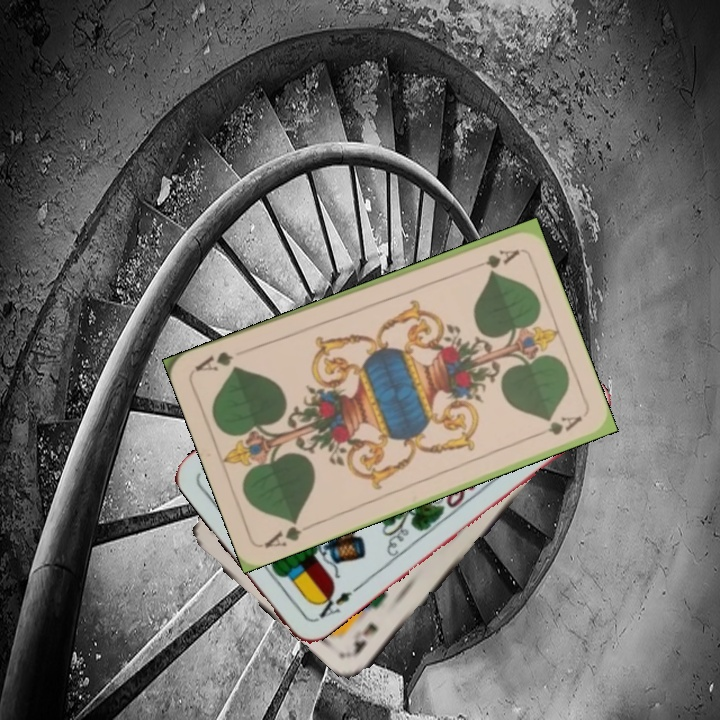EA: (310, 583, 361, 625)
EK: (350, 619, 381, 657)
GA: (259, 515, 316, 551), (464, 245, 522, 273)
